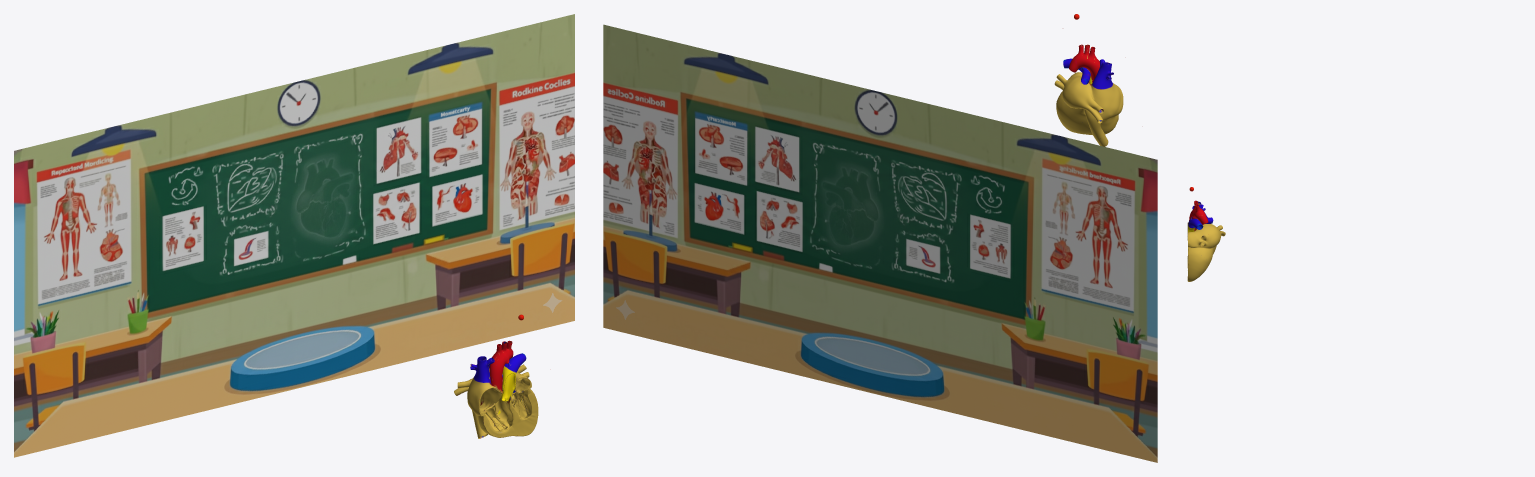
File: latestanimation.glb
3 renders of one model, left to right at view 1: azimuth 30°, elevation 25°; view 2: azimuth 150°, elevation 25°; view 3: azimuth 270°, elevation 25°, orthographic. The views are drawn at different scales.
Visible parts, largest first — view 1: Gemini_Generated_Image_9lki259lki259lki, GLTF_created_0; view 2: Gemini_Generated_Image_9lki259lki259lki, GLTF_created_0; view 3: GLTF_created_0.
Part boxes in pixels (left/top/right/bottom): Gemini_Generated_Image_9lki259lki259lki: left=14, top=14, right=574, bottom=457; GLTF_created_0: left=454, top=340, right=538, bottom=438; Gemini_Generated_Image_9lki259lki259lki: left=603, top=24, right=1157, bottom=462; GLTF_created_0: left=1054, top=44, right=1123, bottom=146; GLTF_created_0: left=1187, top=200, right=1225, bottom=281.
Bounding box in the file's own units: 98.9 × 51.7 × 66.03.
Materials: 31 (2 with a texture image).
